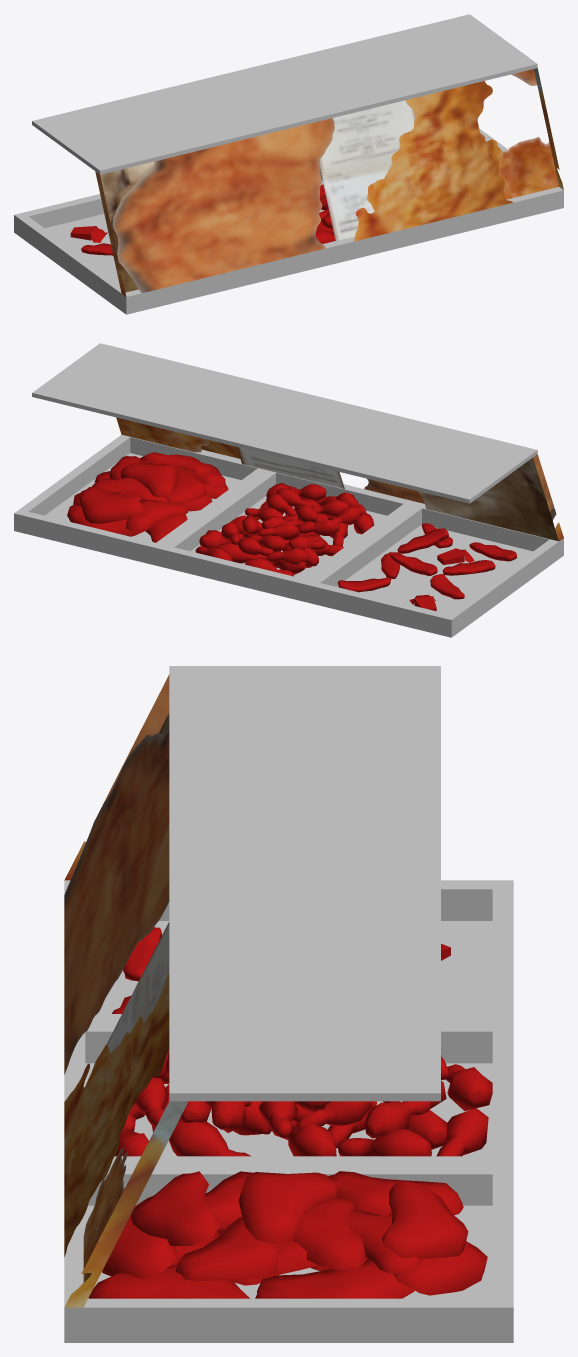
The model's file is food_display.FBX.
3 views of the same model, one above another, from view 1: azimuth 30°, elevation 25°; view 2: azimuth 150°, elevation 25°; view 3: azimuth 270°, elevation 25° (orthographic). The views are drawn at different scales.
Visible parts, largest first — view 1: front_food_display; view 2: front_food_display; view 3: front_food_display.
Part boxes in pixels (x1=…): front_food_display: x1=14, y1=14, x2=563, y2=314; front_food_display: x1=14, y1=343, x2=563, y2=637; front_food_display: x1=64, y1=666, x2=513, y2=1342.
Bounding box in the file's own units: 133 × 36.92 × 59.16.
